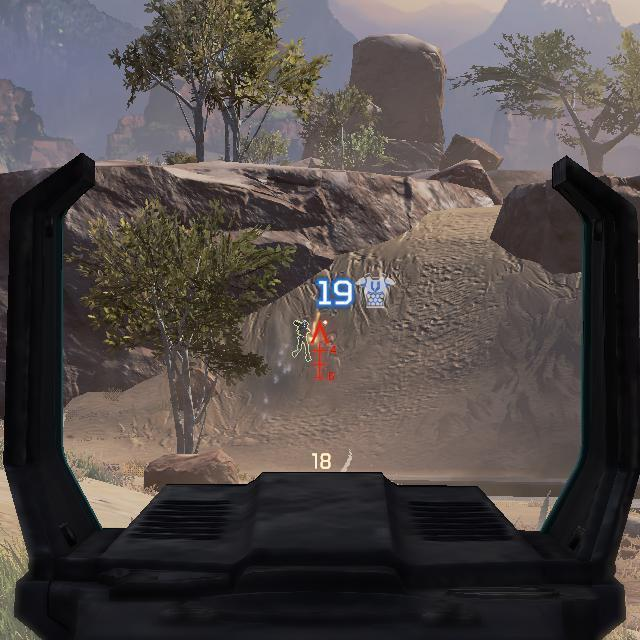avatar: (290, 317, 314, 364)
